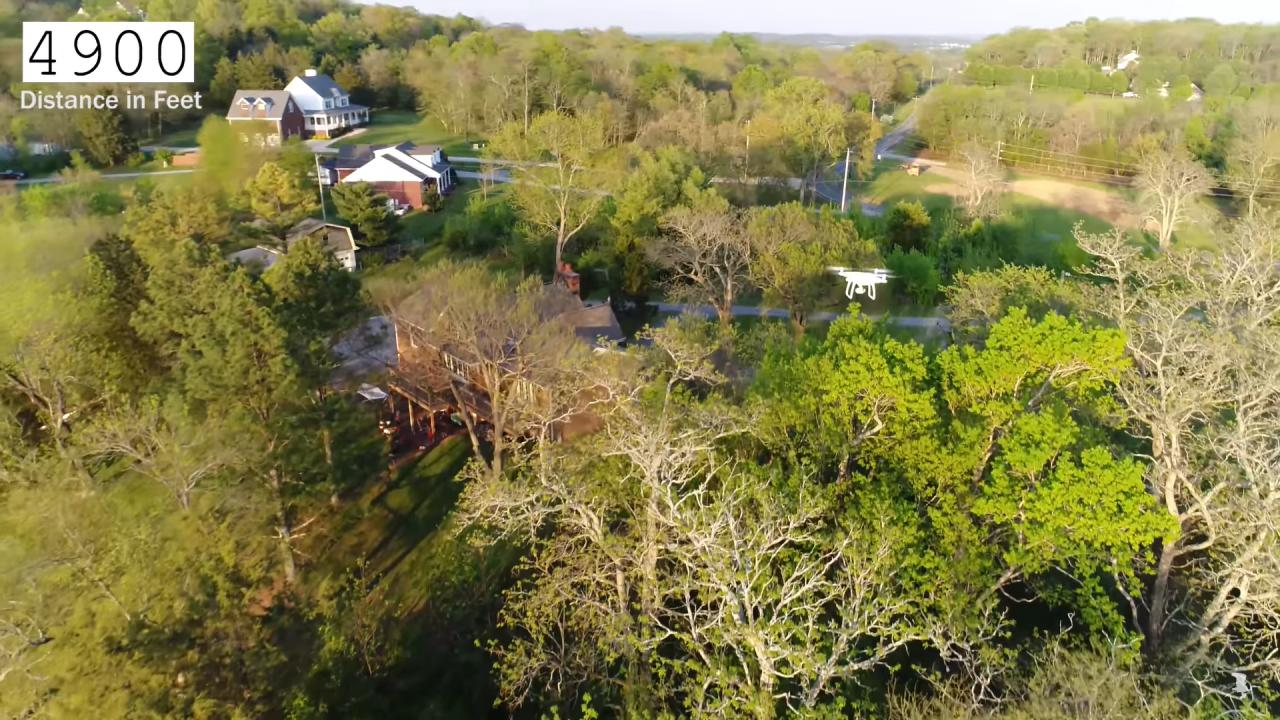Drone: (819, 259, 903, 308)
